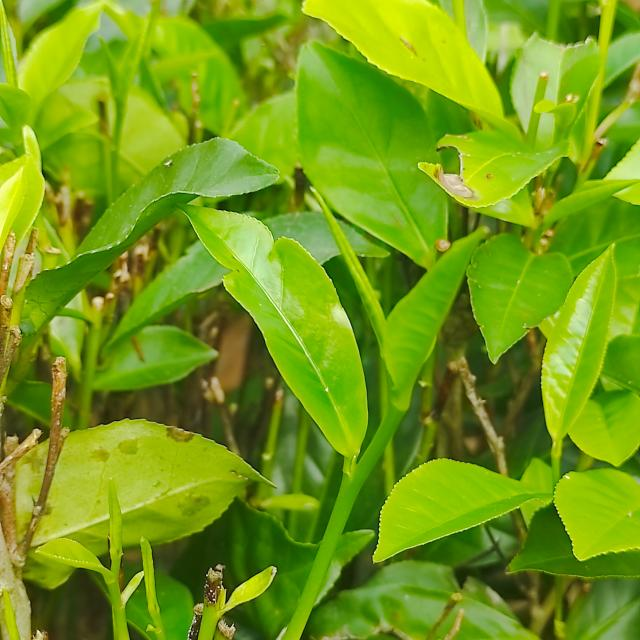unopened_leaf: (305, 178, 402, 416), (533, 174, 640, 244), (136, 530, 172, 640), (95, 28, 132, 125), (98, 469, 126, 590), (0, 0, 21, 91)
